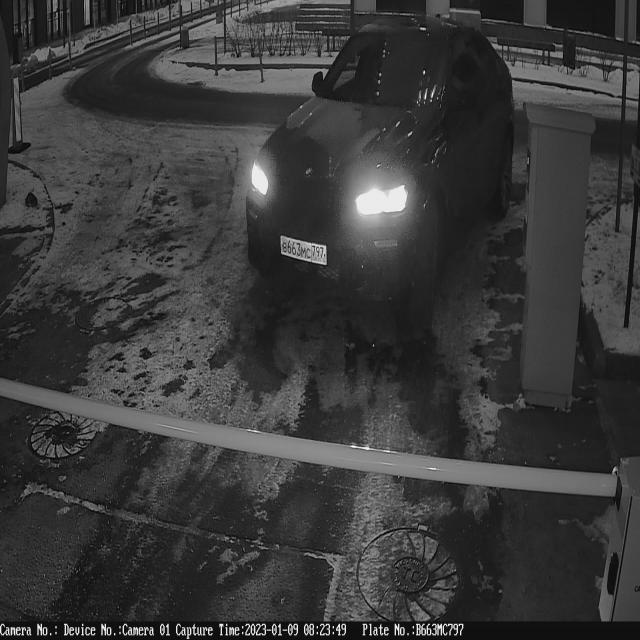car-plate-numbers: (278, 230, 331, 275)
